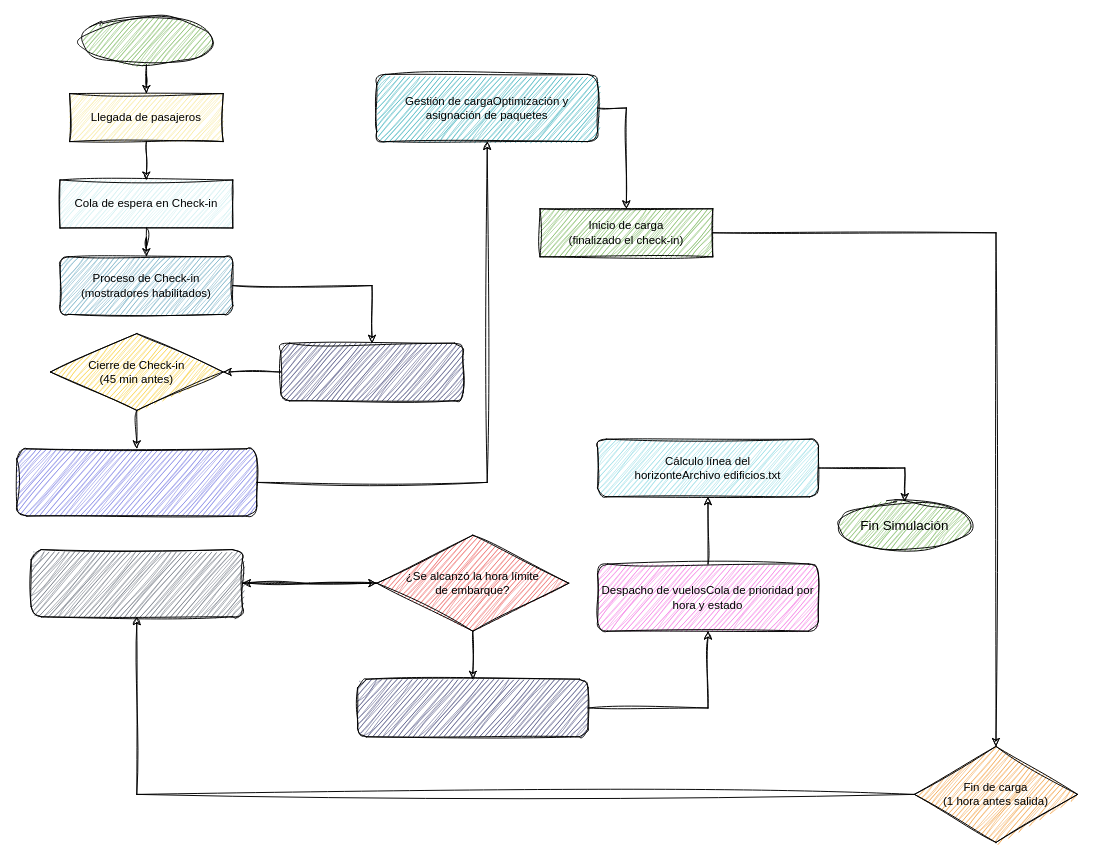
Some shapes in this 1094 by 859 pixel diagram are drawn without their labels. Each missing label, with the centre of its shape:
Asignar asientos a pasajeros en lista de esperapor prioridad y orden de llegada: the point at 136,482
Cerrar puerta y marcar vuelo listo para despegar: the point at 472,707
Despacho de equipaje y emisión de tickets: the point at 371,371
Embarque de pasajerosPor categoría y zonas: the point at 136,583
Inicio Simulación: the point at 146,40
